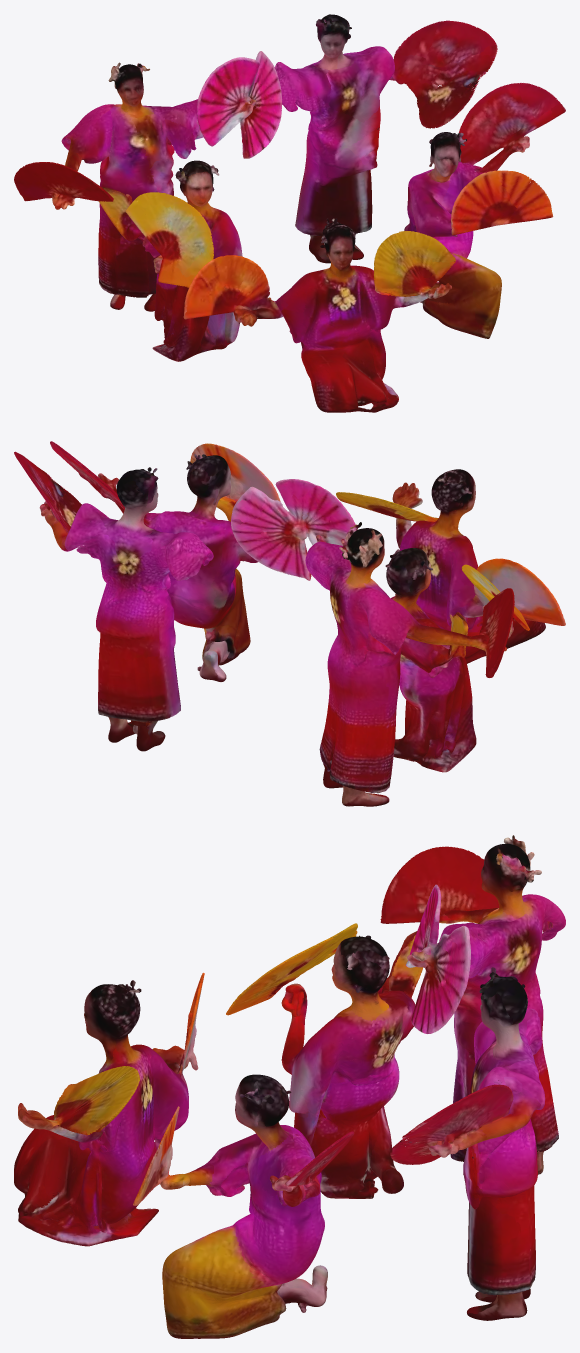
File: tari-pakarena.glb
3 renders of one model, top to bottom at view 1: azimuth 30°, elevation 25°; view 2: azimuth 150°, elevation 25°; view 3: azimuth 270°, elevation 25°, orthographic. The views are drawn at different scales.
Parts seen in each view (by area): view 1: Object_4; view 2: Object_4; view 3: Object_4.
Boxes of the visible parts, bbox=[...] form: Object_4: bbox=[14, 14, 565, 412]; Object_4: bbox=[14, 441, 565, 806]; Object_4: bbox=[14, 835, 565, 1338].
Bounding box in the file's own units: 1 × 0.5034 × 0.7329.
1 material, 1 textured.
